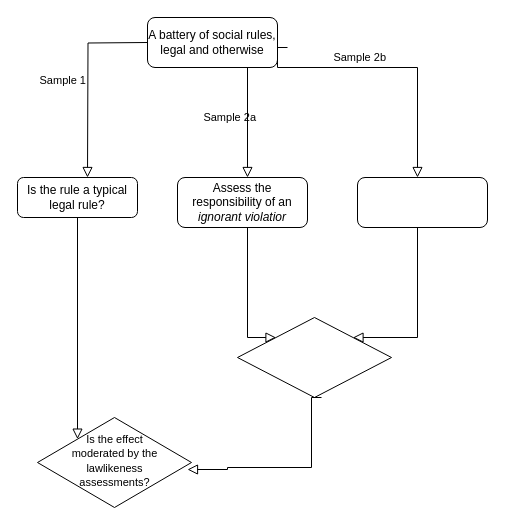
This 505x525 diagram has some shape labels left out. The shapes that lost their labels are listed below. From the top down, each one's centre as x and y in pixels, then its label:
At pixel 422 202: "Assess the responsibility of a knowledgeable violator".
At pixel 314 357: "Is there an effect of ignorance?".
